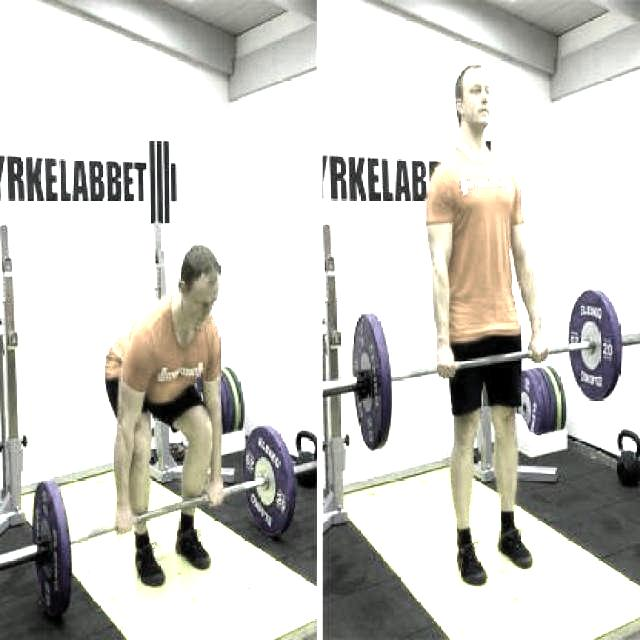barbell: (24, 472, 83, 624), (565, 280, 625, 407), (241, 415, 301, 542), (347, 306, 397, 457)
